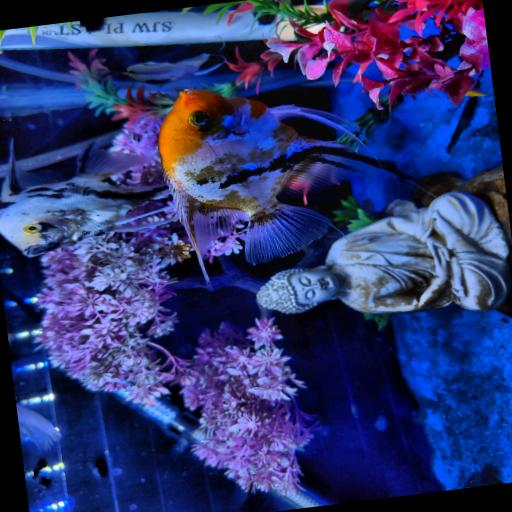Fish: (158, 89, 409, 279), (0, 142, 175, 256), (16, 404, 61, 449)
